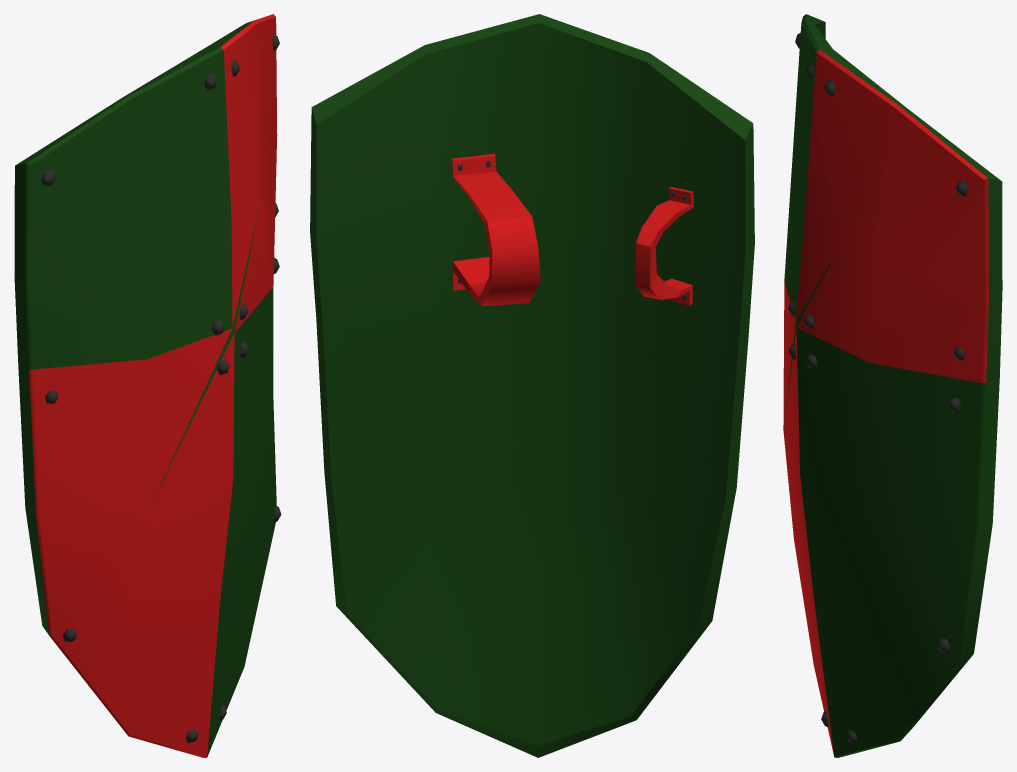
The model's file is PT_Shield_19_a.glb.
3 renders of one model, left to right at view 1: azimuth 30°, elevation 25°; view 2: azimuth 150°, elevation 25°; view 3: azimuth 270°, elevation 25°, orthographic. The views are drawn at different scales.
Parts seen in each view (by area): view 1: PT_Shield_19_a_body; view 2: PT_Shield_19_a_body, PT_Shield_19_a_handle; view 3: PT_Shield_19_a_body.
Boxes of the visible parts, <box> form: PT_Shield_19_a_body: <box>14,14,281,757</box>; PT_Shield_19_a_body: <box>310,14,754,757</box>; PT_Shield_19_a_handle: <box>452,154,693,306</box>; PT_Shield_19_a_body: <box>783,14,1002,757</box>.
Bounding box in the file's own units: 0.6055 × 1.21 × 0.3371.
1 material, 1 textured.
